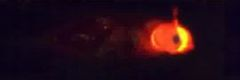keyhole: (170, 31, 185, 47)
